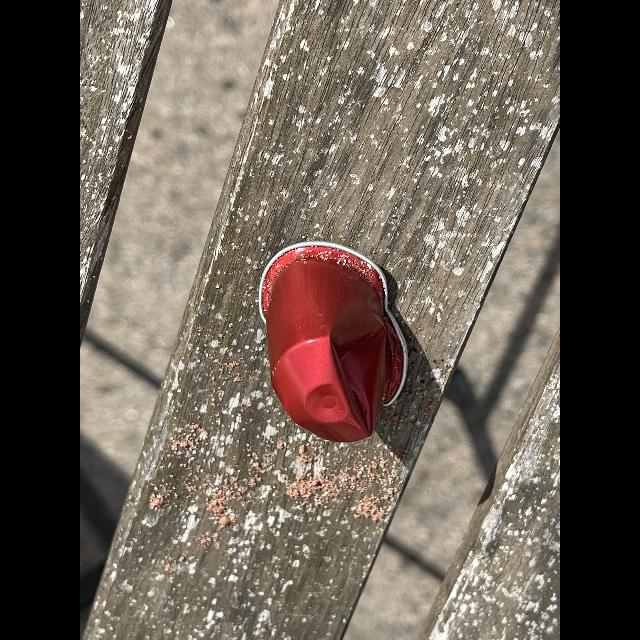damaged_capsule: (238, 226, 432, 447)
